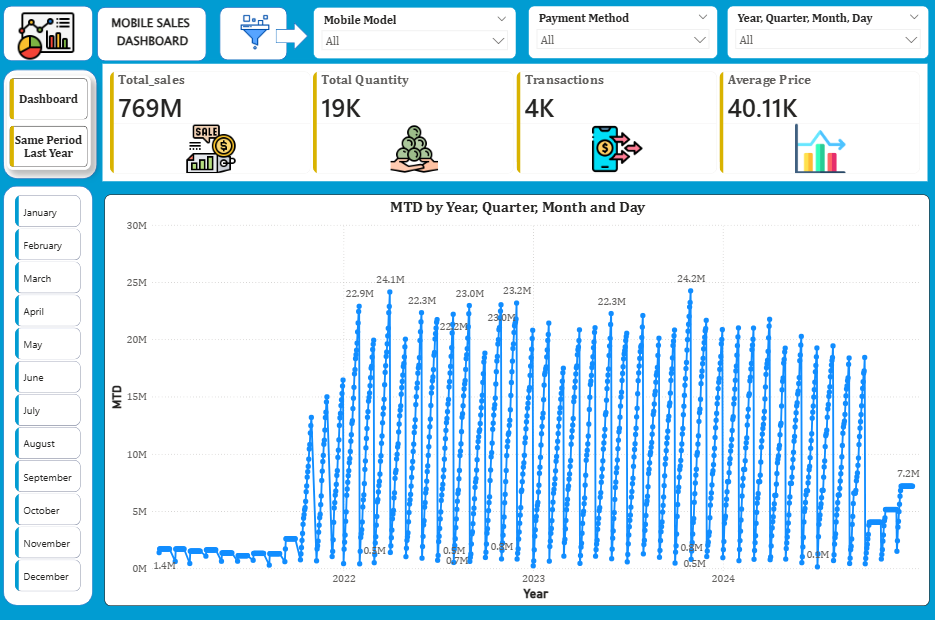

Layout of this report page (visuals, bound fields, positions):
{"tool":"powerbi","page":{"name":"MTD Report","canvas":[1500,1000],"ordinal":1},"visuals":[{"type":"shape","box":[10,13.3,143.3,88.3],"z":0},{"type":"shape","box":[10,115,150,175],"z":1000},{"type":"cardVisual","fields":{"Data":["Sales_data.Total_sales","Sales_data.Total Quantity","Sales_data.Transactions","Sales_data.Average Price"]},"box":[160,98.3,1340,206.7],"z":2000},{"type":"slicer","fields":{"Values":["Sales_data.Mobile Model"]},"box":[505,15,325,83.3],"z":3000},{"type":"slicer","fields":{"Values":["Sales_data.Payment Method"]},"box":[850,13.3,303.3,85],"z":4000},{"type":"slicer","fields":{"Values":["Custom_Calendar.Date.Variation.Date Hierarchy.Year","Custom_Calendar.Date.Variation.Date Hierarchy.Quarter","Custom_Calendar.Date.Variation.Date Hierarchy.Month","Custom_Calendar.Date.Variation.Date Hierarchy.Day"]},"box":[1168.3,13.3,323.3,85],"z":5000},{"type":"shape","box":[356.7,15,108.3,85],"z":6000},{"type":"image","box":[358.3,28.3,110,56.7],"z":7000},{"type":"shape","box":[445,40,51.7,45],"z":8000},{"type":"shape","box":[160,15,175,86.7],"z":9000},{"type":"textbox","box":[171.7,21.7,153.3,76.7],"z":10000},{"type":"lineChart","fields":{"Y":["Sales_data.MTD"],"Category":["Custom_Calendar.Date.Variation.Date Hierarchy.Year","Custom_Calendar.Date.Variation.Date Hierarchy.Quarter","Custom_Calendar.Date.Variation.Date Hierarchy.Month","Custom_Calendar.Date.Variation.Date Hierarchy.Day"]},"box":[171.7,315,1320,658.3],"z":11000},{"type":"shape","box":[10,301.7,143.3,671.7],"z":12000},{"type":"advancedSlicerVisual","fields":{"Values":["Custom_Calendar.Date.Variation.Date Hierarchy.Month"]},"box":[23.3,311.7,115,655],"z":13000},{"type":"pageNavigator","box":[16.7,126.7,133.3,150],"z":14000},{"type":"image","box":[5,13.3,145,96.7],"z":15000}]}

Visuals, with their boxes in screenshot pixels (x1, y1, x2, y2), scaled from the page's 1500x1000 canvas onto the 935x620 screenshot:
shape: select_region(6, 8, 96, 63)
shape: select_region(6, 71, 100, 180)
cardVisual - Sales_data.Total_sales x Sales_data.Total Quantity: select_region(100, 61, 934, 189)
slicer - Sales_data.Mobile Model: select_region(315, 9, 517, 61)
slicer - Sales_data.Payment Method: select_region(530, 8, 719, 61)
slicer - Custom_Calendar.Date.Variation.Date Hierarchy.Year x Custom_Calendar.Date.Variation.Date Hierarchy.Quarter: select_region(728, 8, 930, 61)
shape: select_region(222, 9, 290, 62)
image: select_region(223, 18, 292, 53)
shape: select_region(277, 25, 310, 53)
shape: select_region(100, 9, 209, 63)
textbox: select_region(107, 13, 203, 61)
lineChart - Sales_data.MTD x Custom_Calendar.Date.Variation.Date Hierarchy.Year: select_region(107, 195, 930, 603)
shape: select_region(6, 187, 96, 604)
advancedSlicerVisual - Custom_Calendar.Date.Variation.Date Hierarchy.Month: select_region(15, 193, 86, 599)
pageNavigator: select_region(10, 79, 94, 172)
image: select_region(3, 8, 94, 68)
